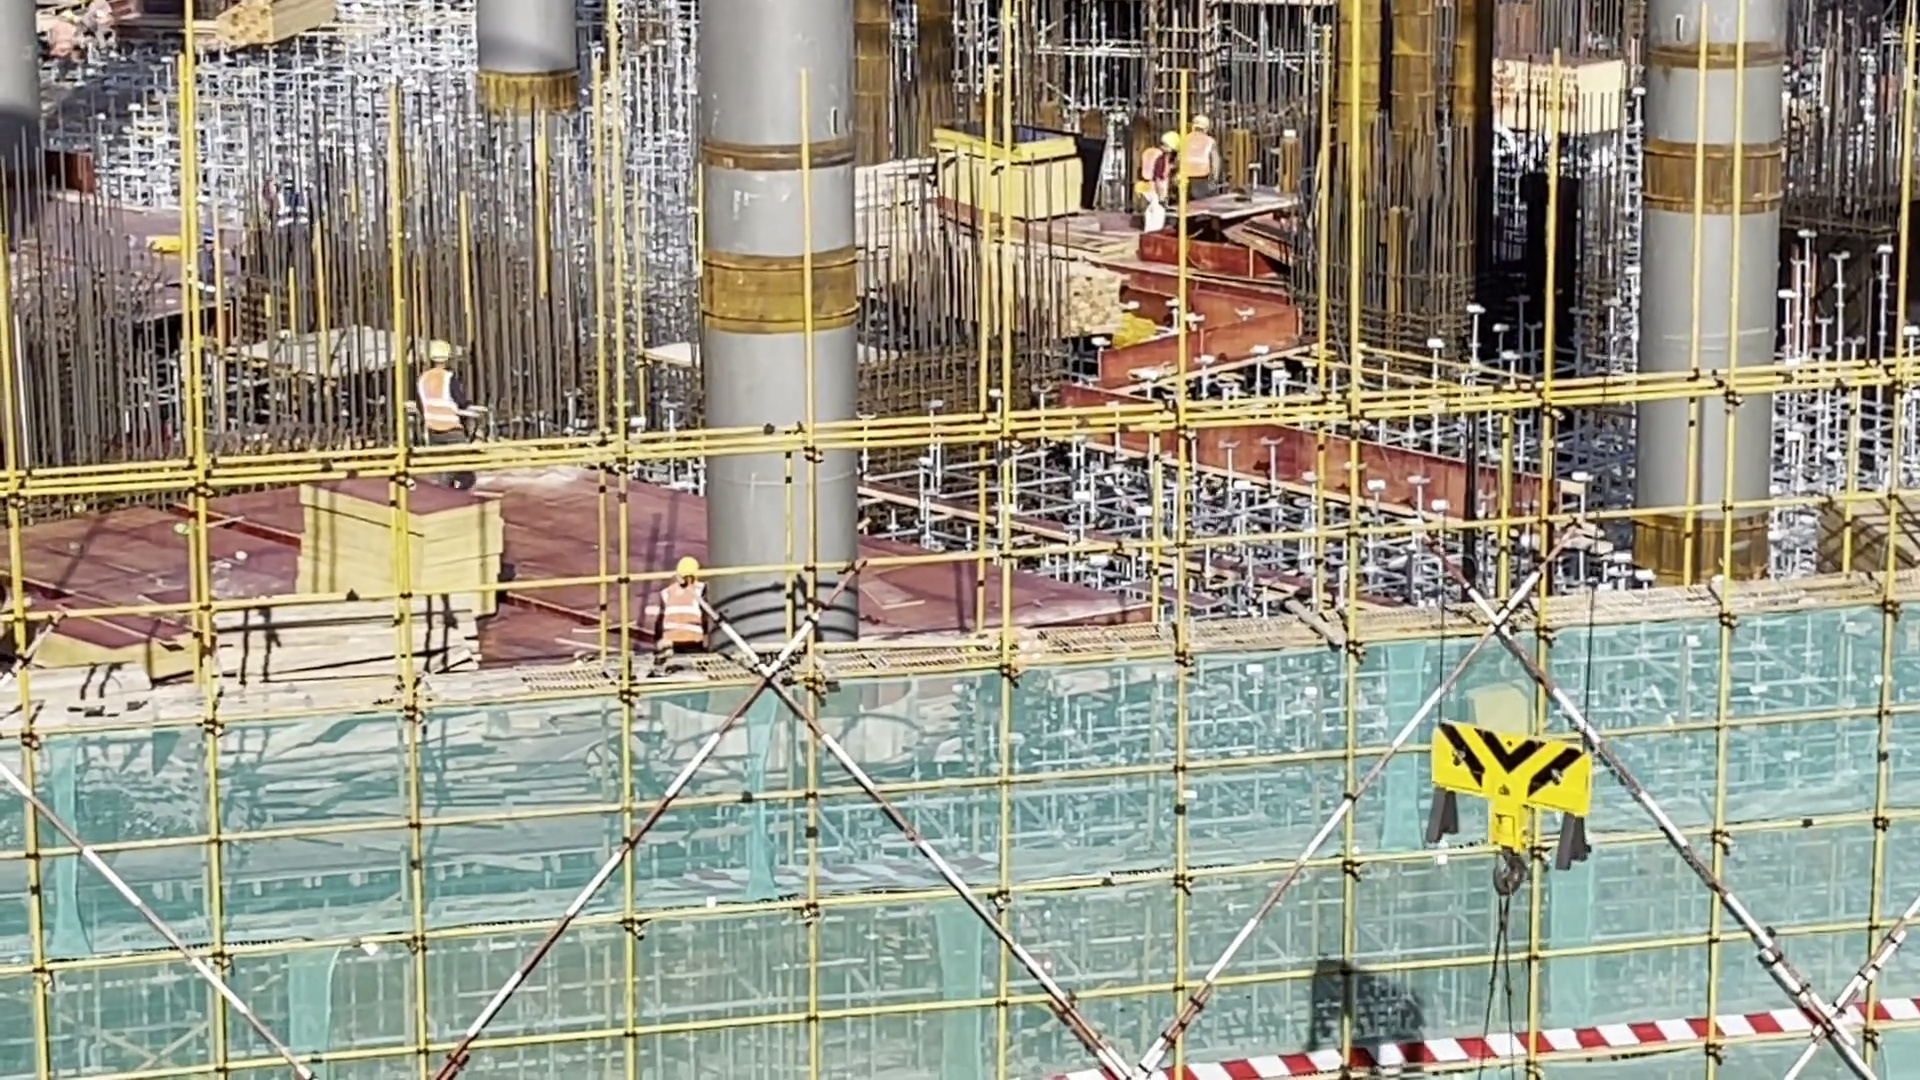helmet: (675, 556, 703, 585), (428, 340, 452, 369), (1190, 112, 1211, 134), (1160, 128, 1178, 153)
person: (400, 337, 493, 499), (655, 548, 711, 660), (1179, 108, 1231, 211), (1138, 127, 1180, 252)
vest: (661, 578, 712, 656), (414, 370, 466, 437), (1181, 134, 1219, 181), (1134, 147, 1165, 189)
